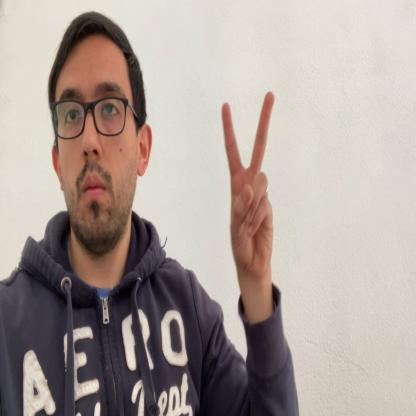V: (220, 90, 276, 275)
